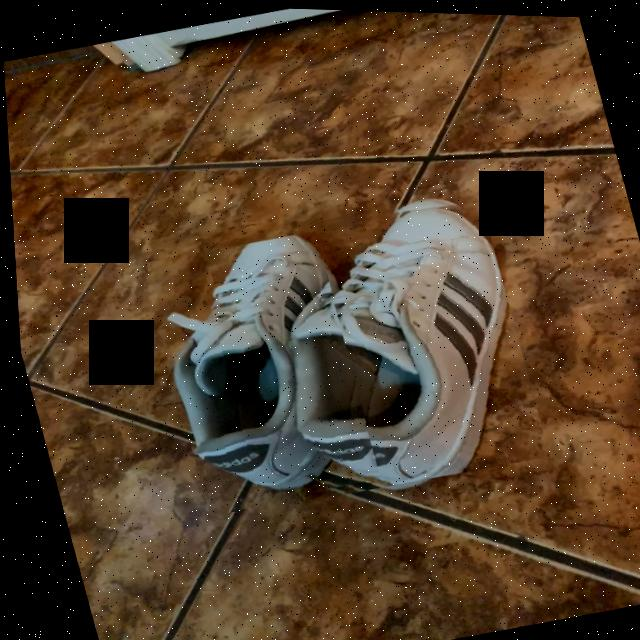shoe: (296, 203, 502, 483), (168, 233, 323, 496)
